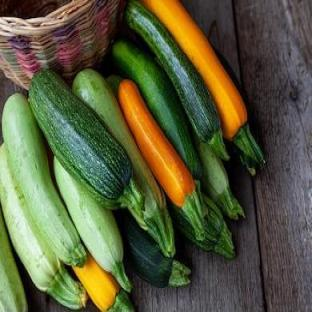Zucchini: (72, 69, 175, 256), (29, 70, 143, 214), (3, 94, 86, 266), (0, 146, 87, 309), (112, 40, 200, 178), (54, 158, 131, 291), (119, 212, 190, 287), (171, 196, 235, 259), (197, 141, 244, 219), (192, 215, 232, 257)
